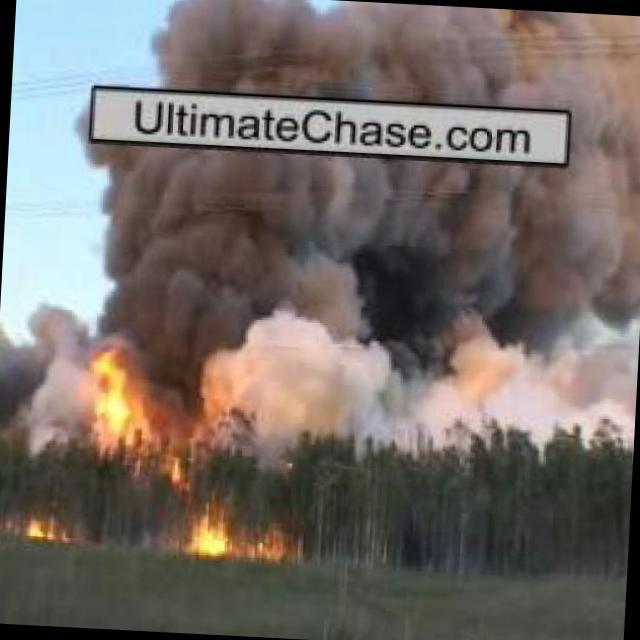Fire: (92, 332, 162, 463), (186, 503, 233, 555), (21, 513, 85, 540), (257, 523, 291, 559)
